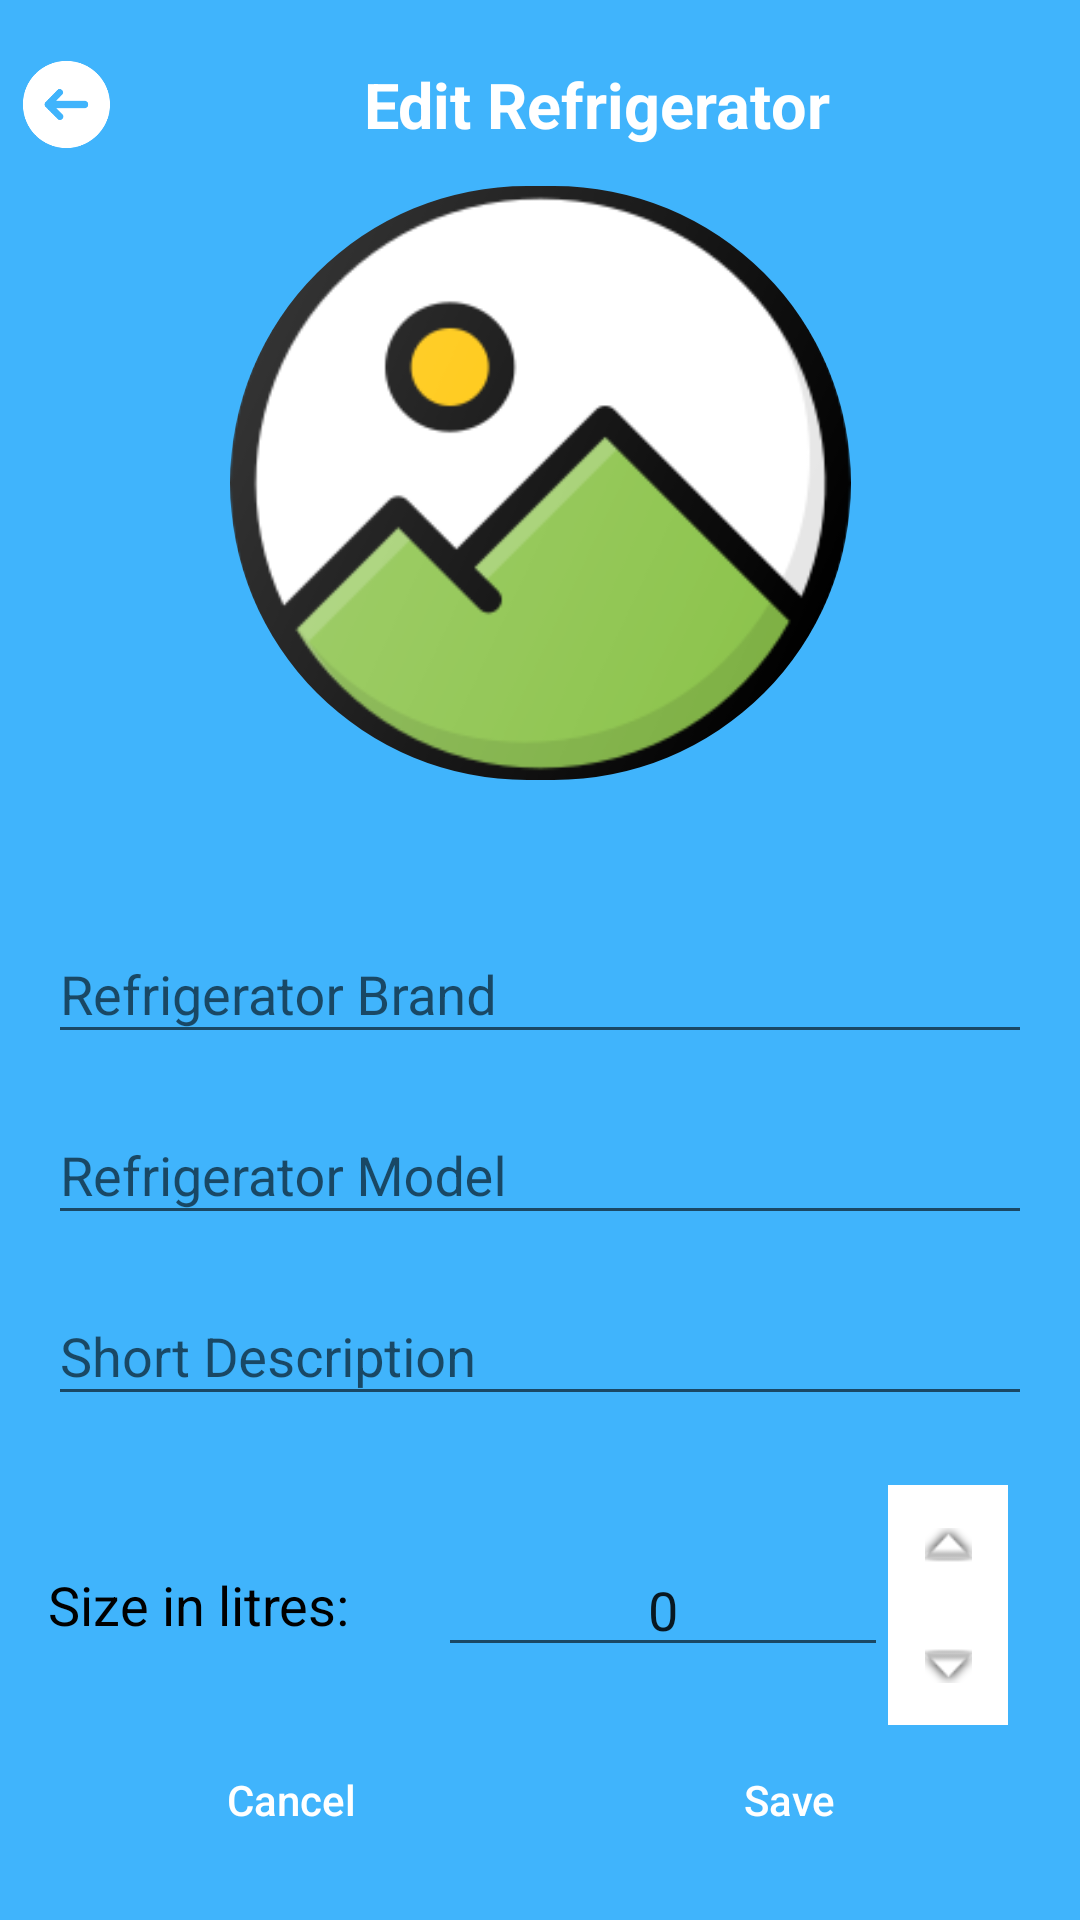

Where icons sit on this 1080w x 1920h app screen, as (x1, y1, x2, y2):
back button: (23, 61, 110, 148)
